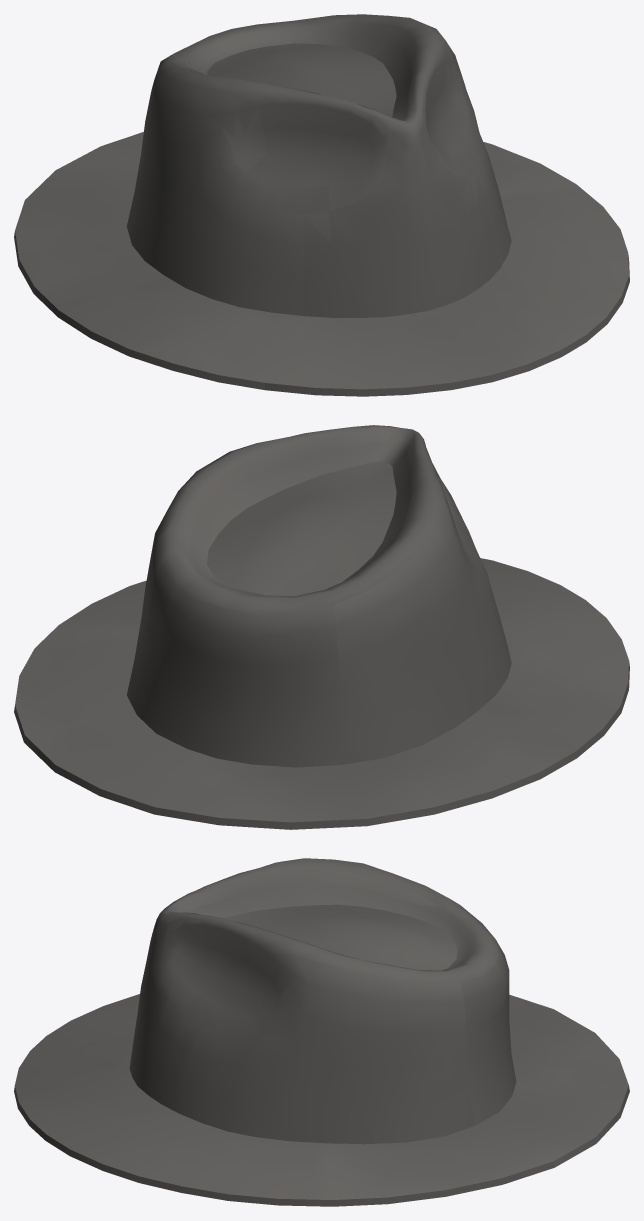
The model's file is fedora.glb.
3 renders of one model, top to bottom at view 1: azimuth 30°, elevation 25°; view 2: azimuth 150°, elevation 25°; view 3: azimuth 270°, elevation 25°, orthographic. The views are drawn at different scales.
Visible parts, largest first — view 1: fedora; view 2: fedora; view 3: fedora.
Boxes of the visible parts, x1,y1,x2,y2 form: fedora: (14, 14, 629, 396); fedora: (14, 425, 629, 829); fedora: (14, 858, 629, 1206).
Bounding box in the file's own units: 0.2535 × 0.099 × 0.2863.
1 material, 1 textured.
